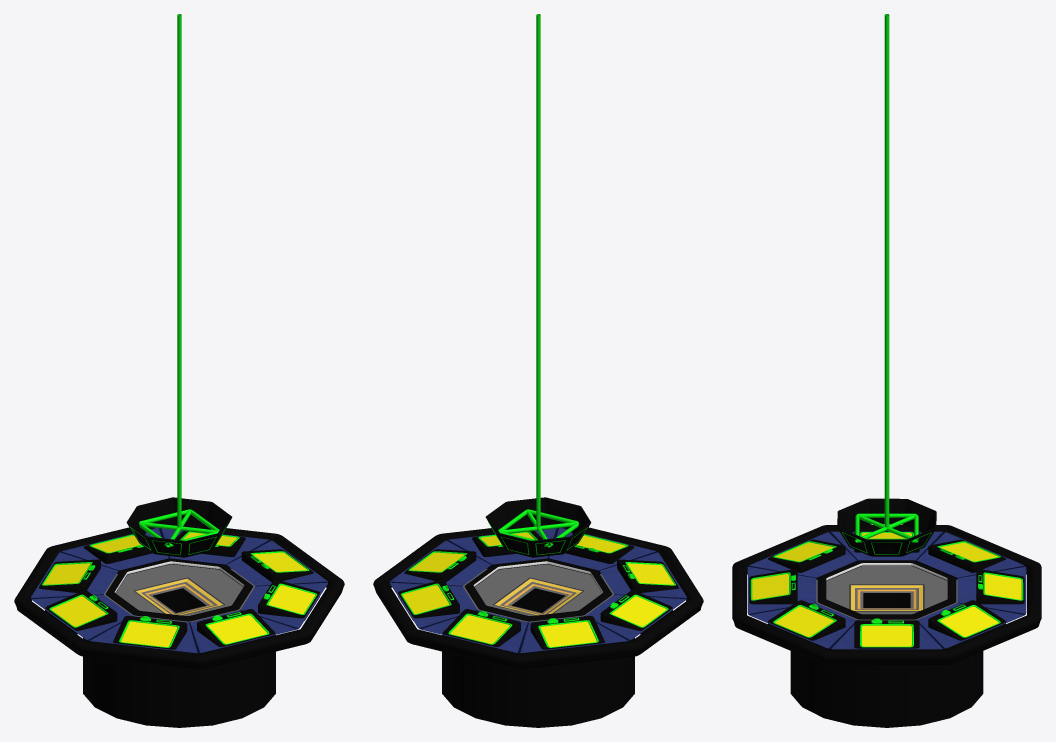
The model's file is 24_Table.FBX.
3 renders of one model, left to right at view 1: azimuth 30°, elevation 25°; view 2: azimuth 150°, elevation 25°; view 3: azimuth 270°, elevation 25°, orthographic.
Visible parts, largest first — view 1: 24_Table; view 2: 24_Table; view 3: 24_Table.
Part boxes in pixels (x1=…): 24_Table: x1=14, y1=14, x2=344, y2=727; 24_Table: x1=373, y1=14, x2=703, y2=727; 24_Table: x1=732, y1=14, x2=1041, y2=727.
Bounding box in the file's own units: 3367 × 8059 × 3367.
3 materials, 1 textured.
